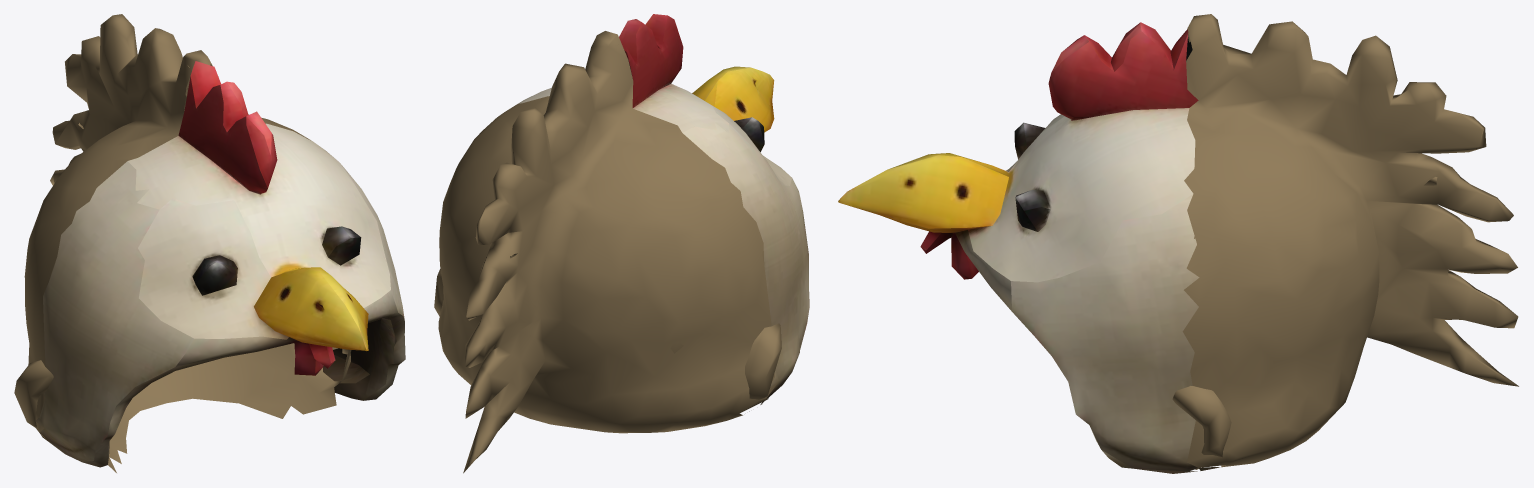
File: chicken.glb
3 renders of one model, left to right at view 1: azimuth 30°, elevation 25°; view 2: azimuth 150°, elevation 25°; view 3: azimuth 270°, elevation 25°, orthographic. The views are drawn at different scales.
Visible parts, largest first — view 1: geometry_0, HoodAnatomicalLining; view 2: geometry_0, HoodAnatomicalLining; view 3: geometry_0, HoodAnatomicalLining.
Part boxes in pixels (x1,y1,x2,y2): geometry_0: [24, 14, 405, 467]; HoodAnatomicalLining: [14, 262, 351, 472]; geometry_0: [438, 14, 809, 473]; HoodAnatomicalLining: [434, 223, 781, 399]; geometry_0: [838, 14, 1518, 473]; HoodAnatomicalLining: [1172, 211, 1231, 469].
Size of the model in its own units: 0.512 by 0.5262 by 0.8083.
2 materials, 1 textured.
